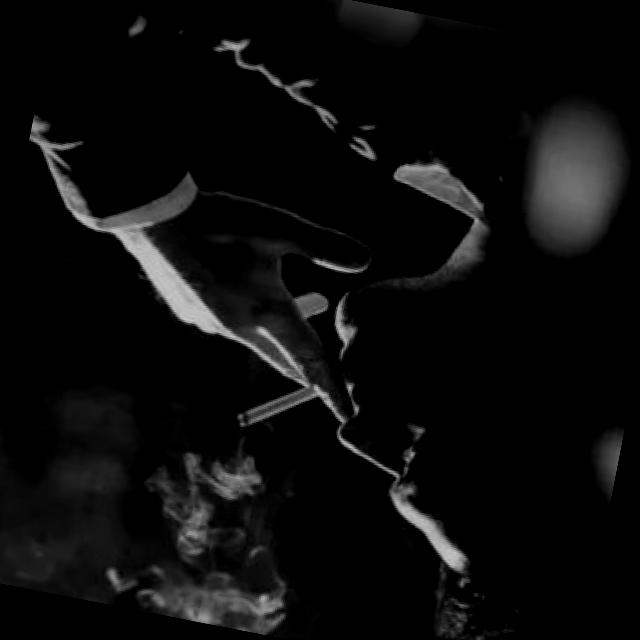cigarette: (228, 364, 339, 452)
